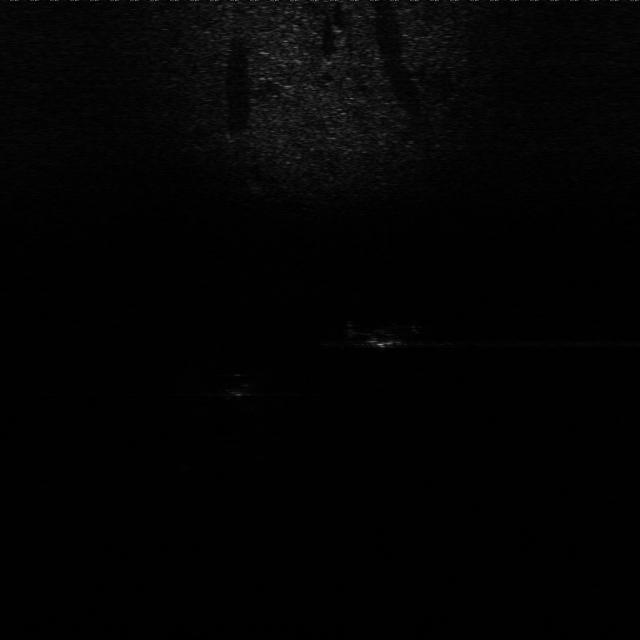ball: (222, 371, 262, 399)
human body: (348, 317, 433, 354)
